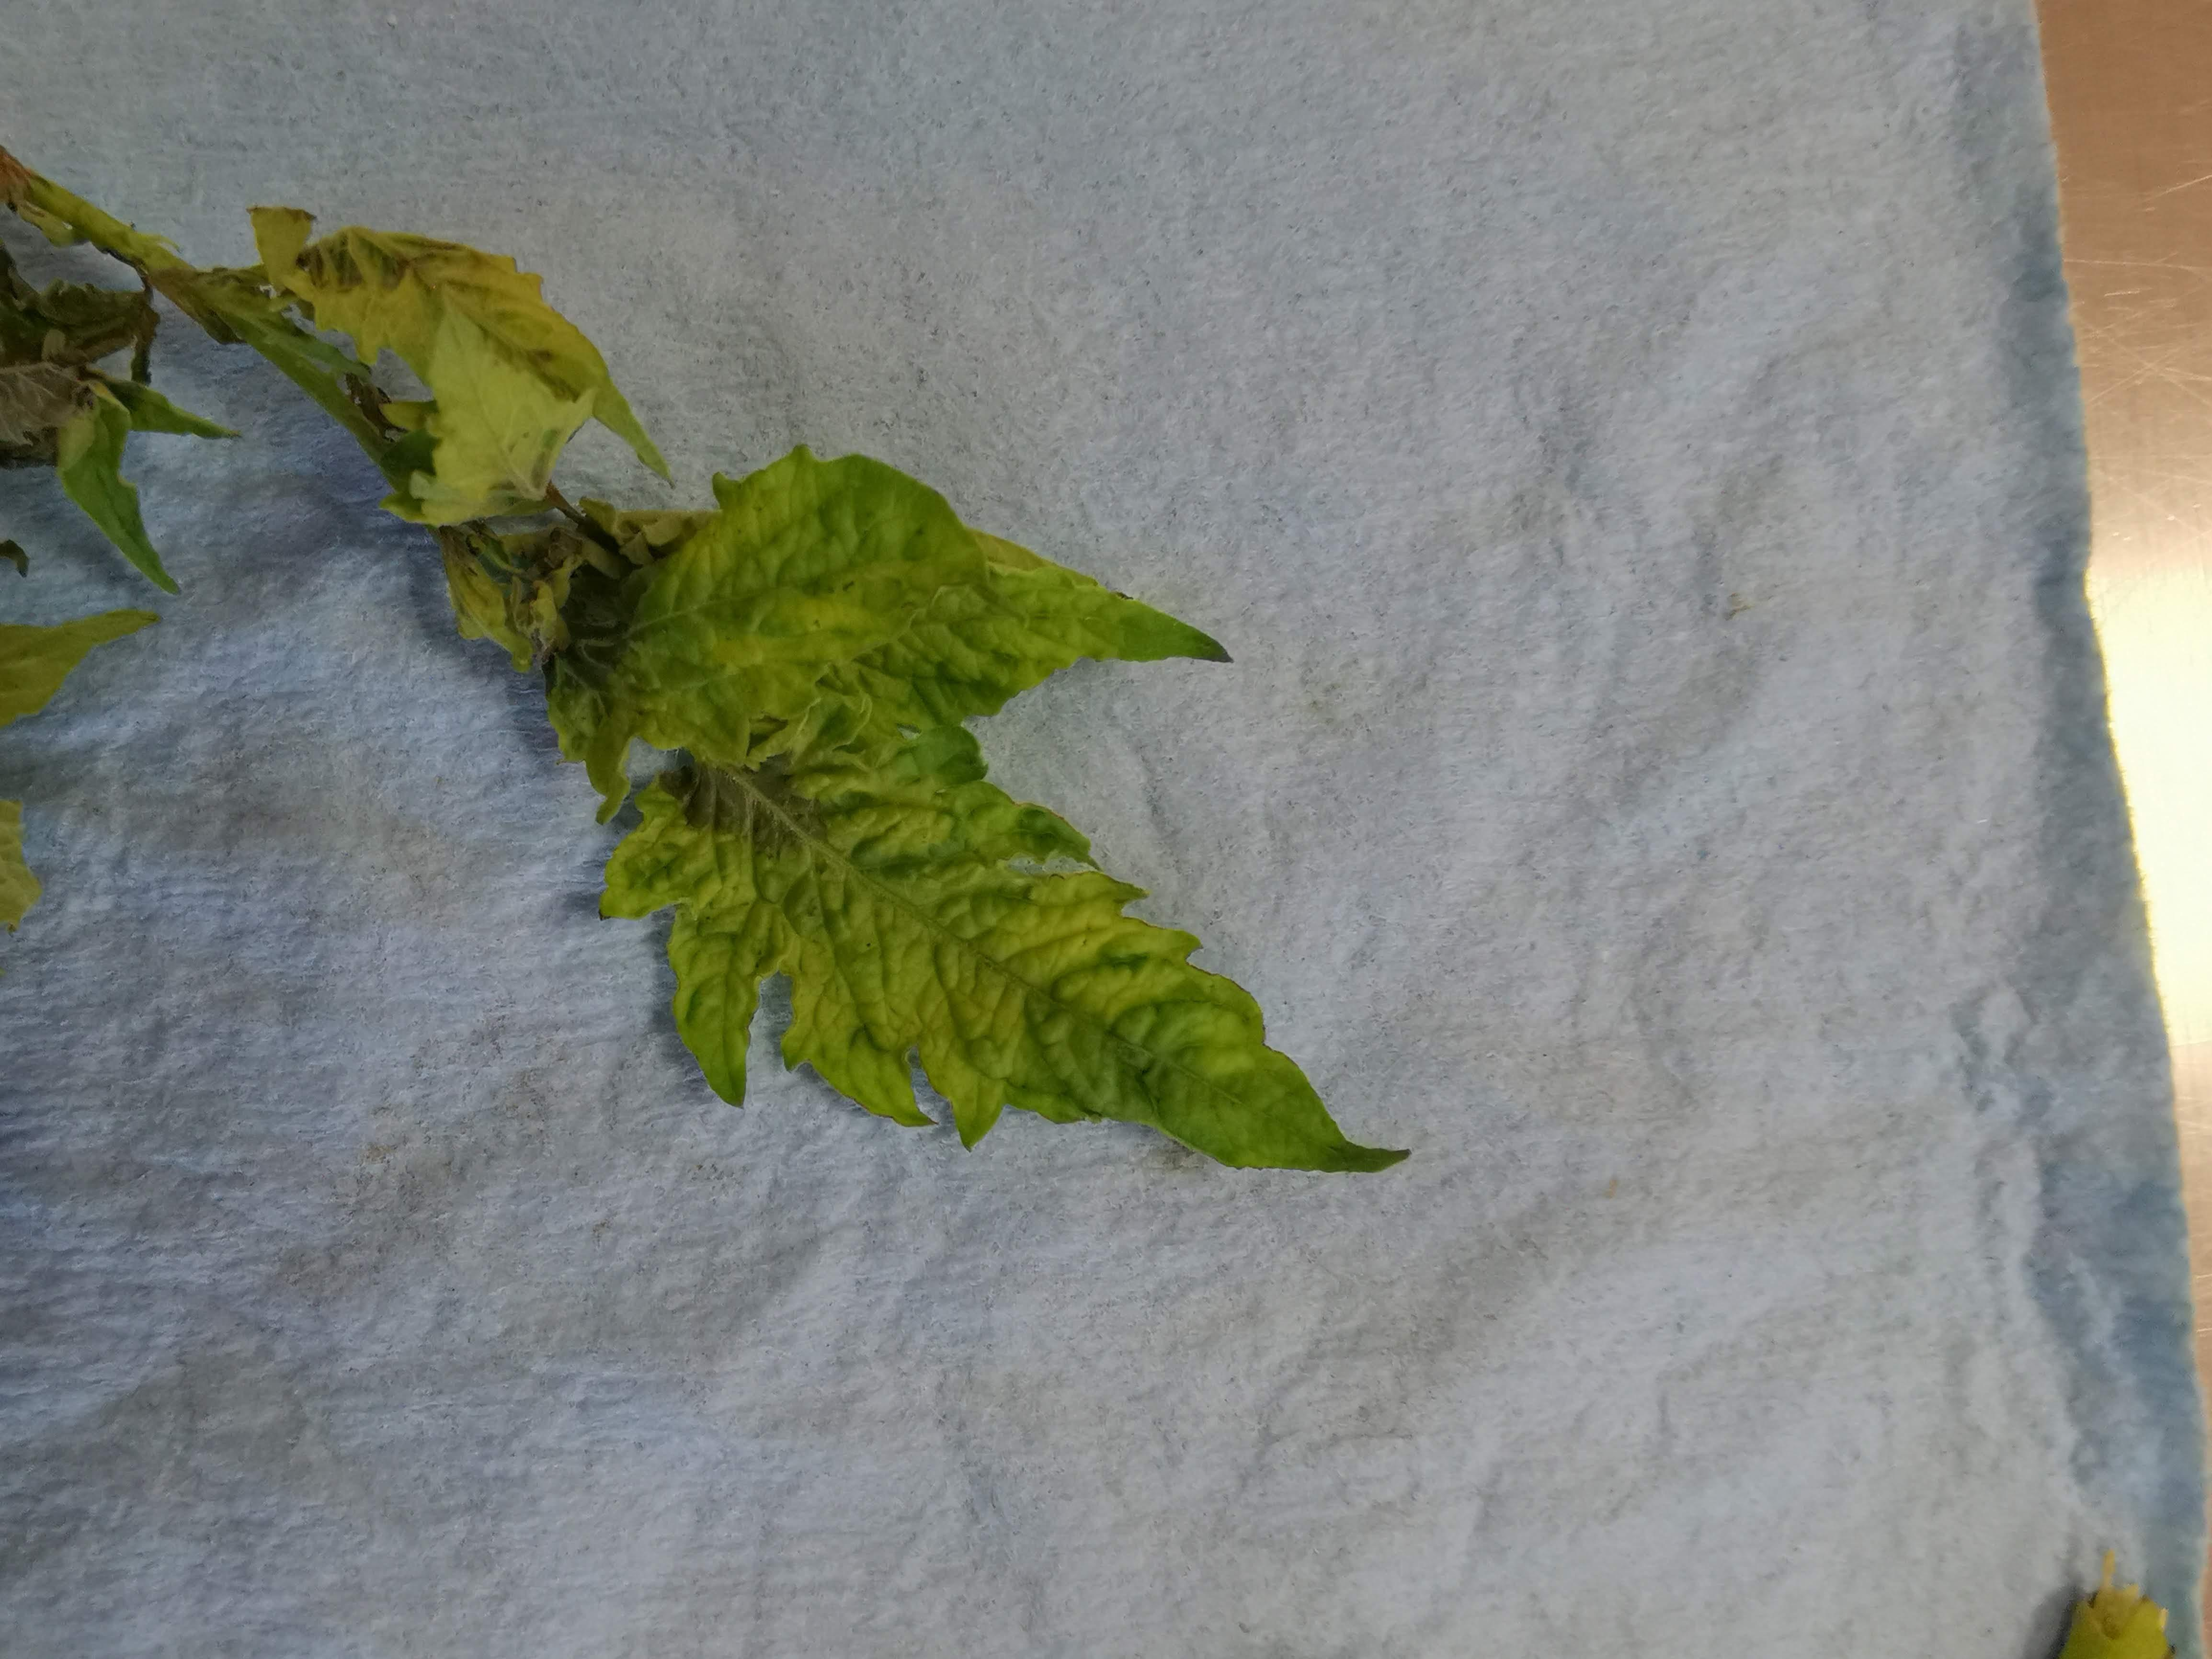Hoja: (415, 314, 593, 525)
Hoja rugoso: (601, 734, 1405, 1171), (251, 207, 669, 476), (626, 444, 976, 760), (830, 532, 1222, 725)
